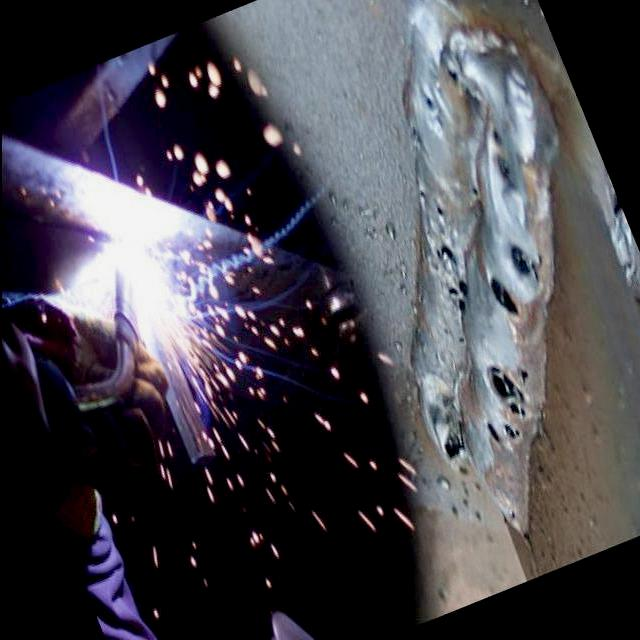defect: (480, 363, 533, 454), (430, 391, 467, 463), (484, 272, 524, 329), (505, 242, 544, 287), (441, 54, 465, 100), (444, 280, 470, 319), (433, 240, 457, 268), (494, 152, 509, 187), (419, 94, 436, 116), (409, 124, 423, 148), (490, 126, 501, 147), (506, 505, 516, 523), (435, 205, 444, 221), (443, 327, 452, 343), (457, 335, 466, 350), (470, 184, 478, 198), (419, 191, 424, 201)
